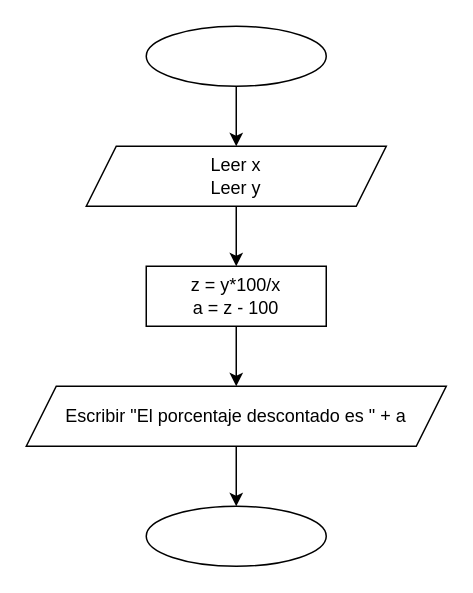
The diagram is 473 pixels wide and 593 high, and some of its shapes have lost their labels. Here are the shapes that lost their labels. From the top down, the centre of each, then its label:
(x=235, y=55): Inicio
(x=235, y=535): Fin
